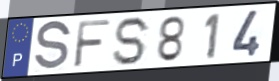1: (203, 12, 222, 60)
4: (230, 8, 264, 59)
8: (156, 15, 186, 63)
F: (71, 19, 113, 70)
S: (32, 18, 73, 73), (112, 15, 153, 68)
